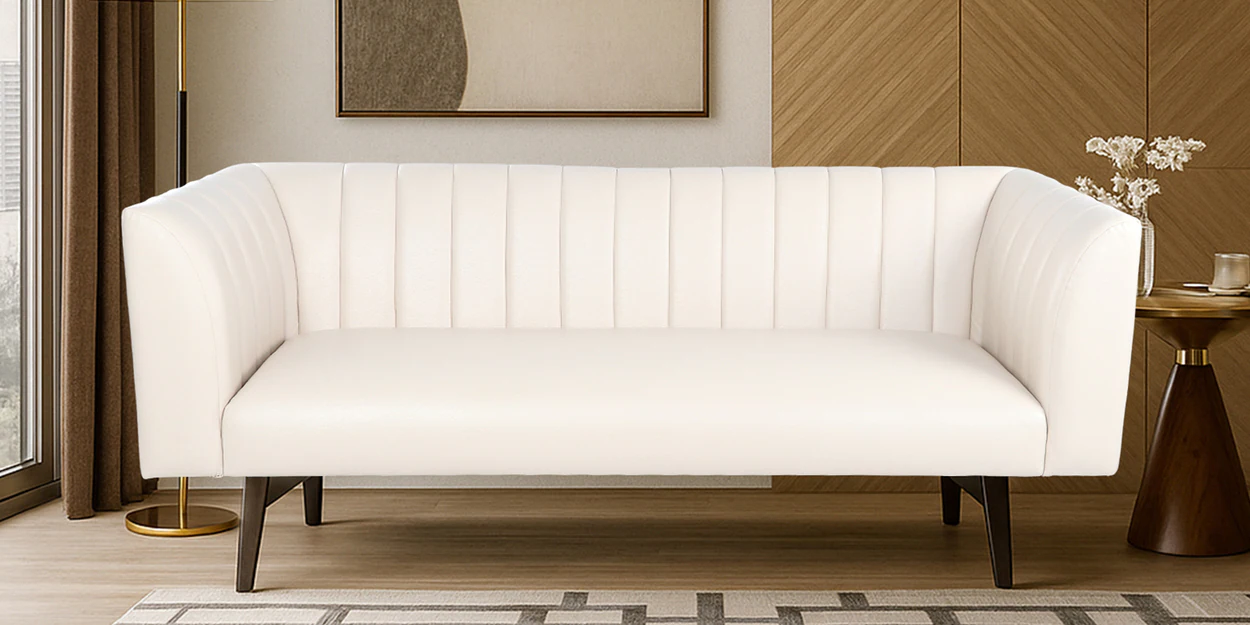3seatersofa: (122, 164, 1139, 591)
backrest: (261, 164, 1002, 334)
leftarmrest: (972, 170, 1140, 474)
leg: (236, 477, 322, 591), (943, 477, 1012, 588)
rightarmrest: (122, 164, 297, 476)
seat: (224, 328, 1046, 475)
